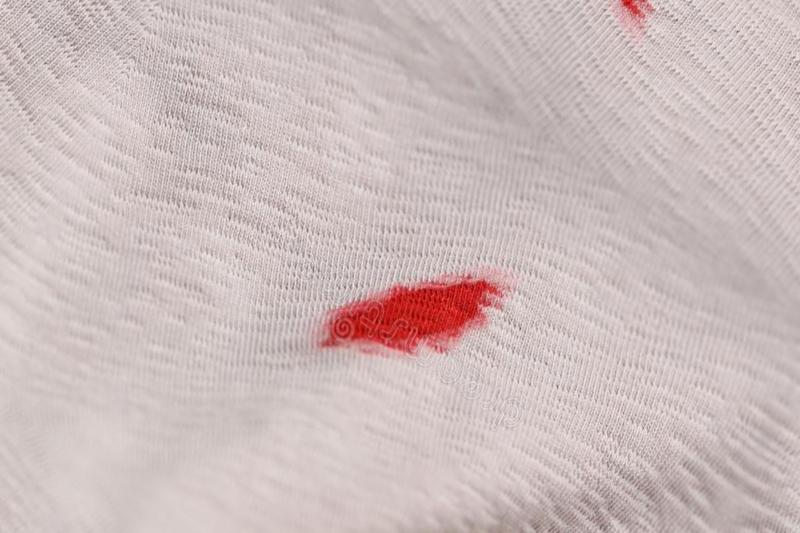stain: (310, 270, 518, 365), (622, 0, 661, 35)
